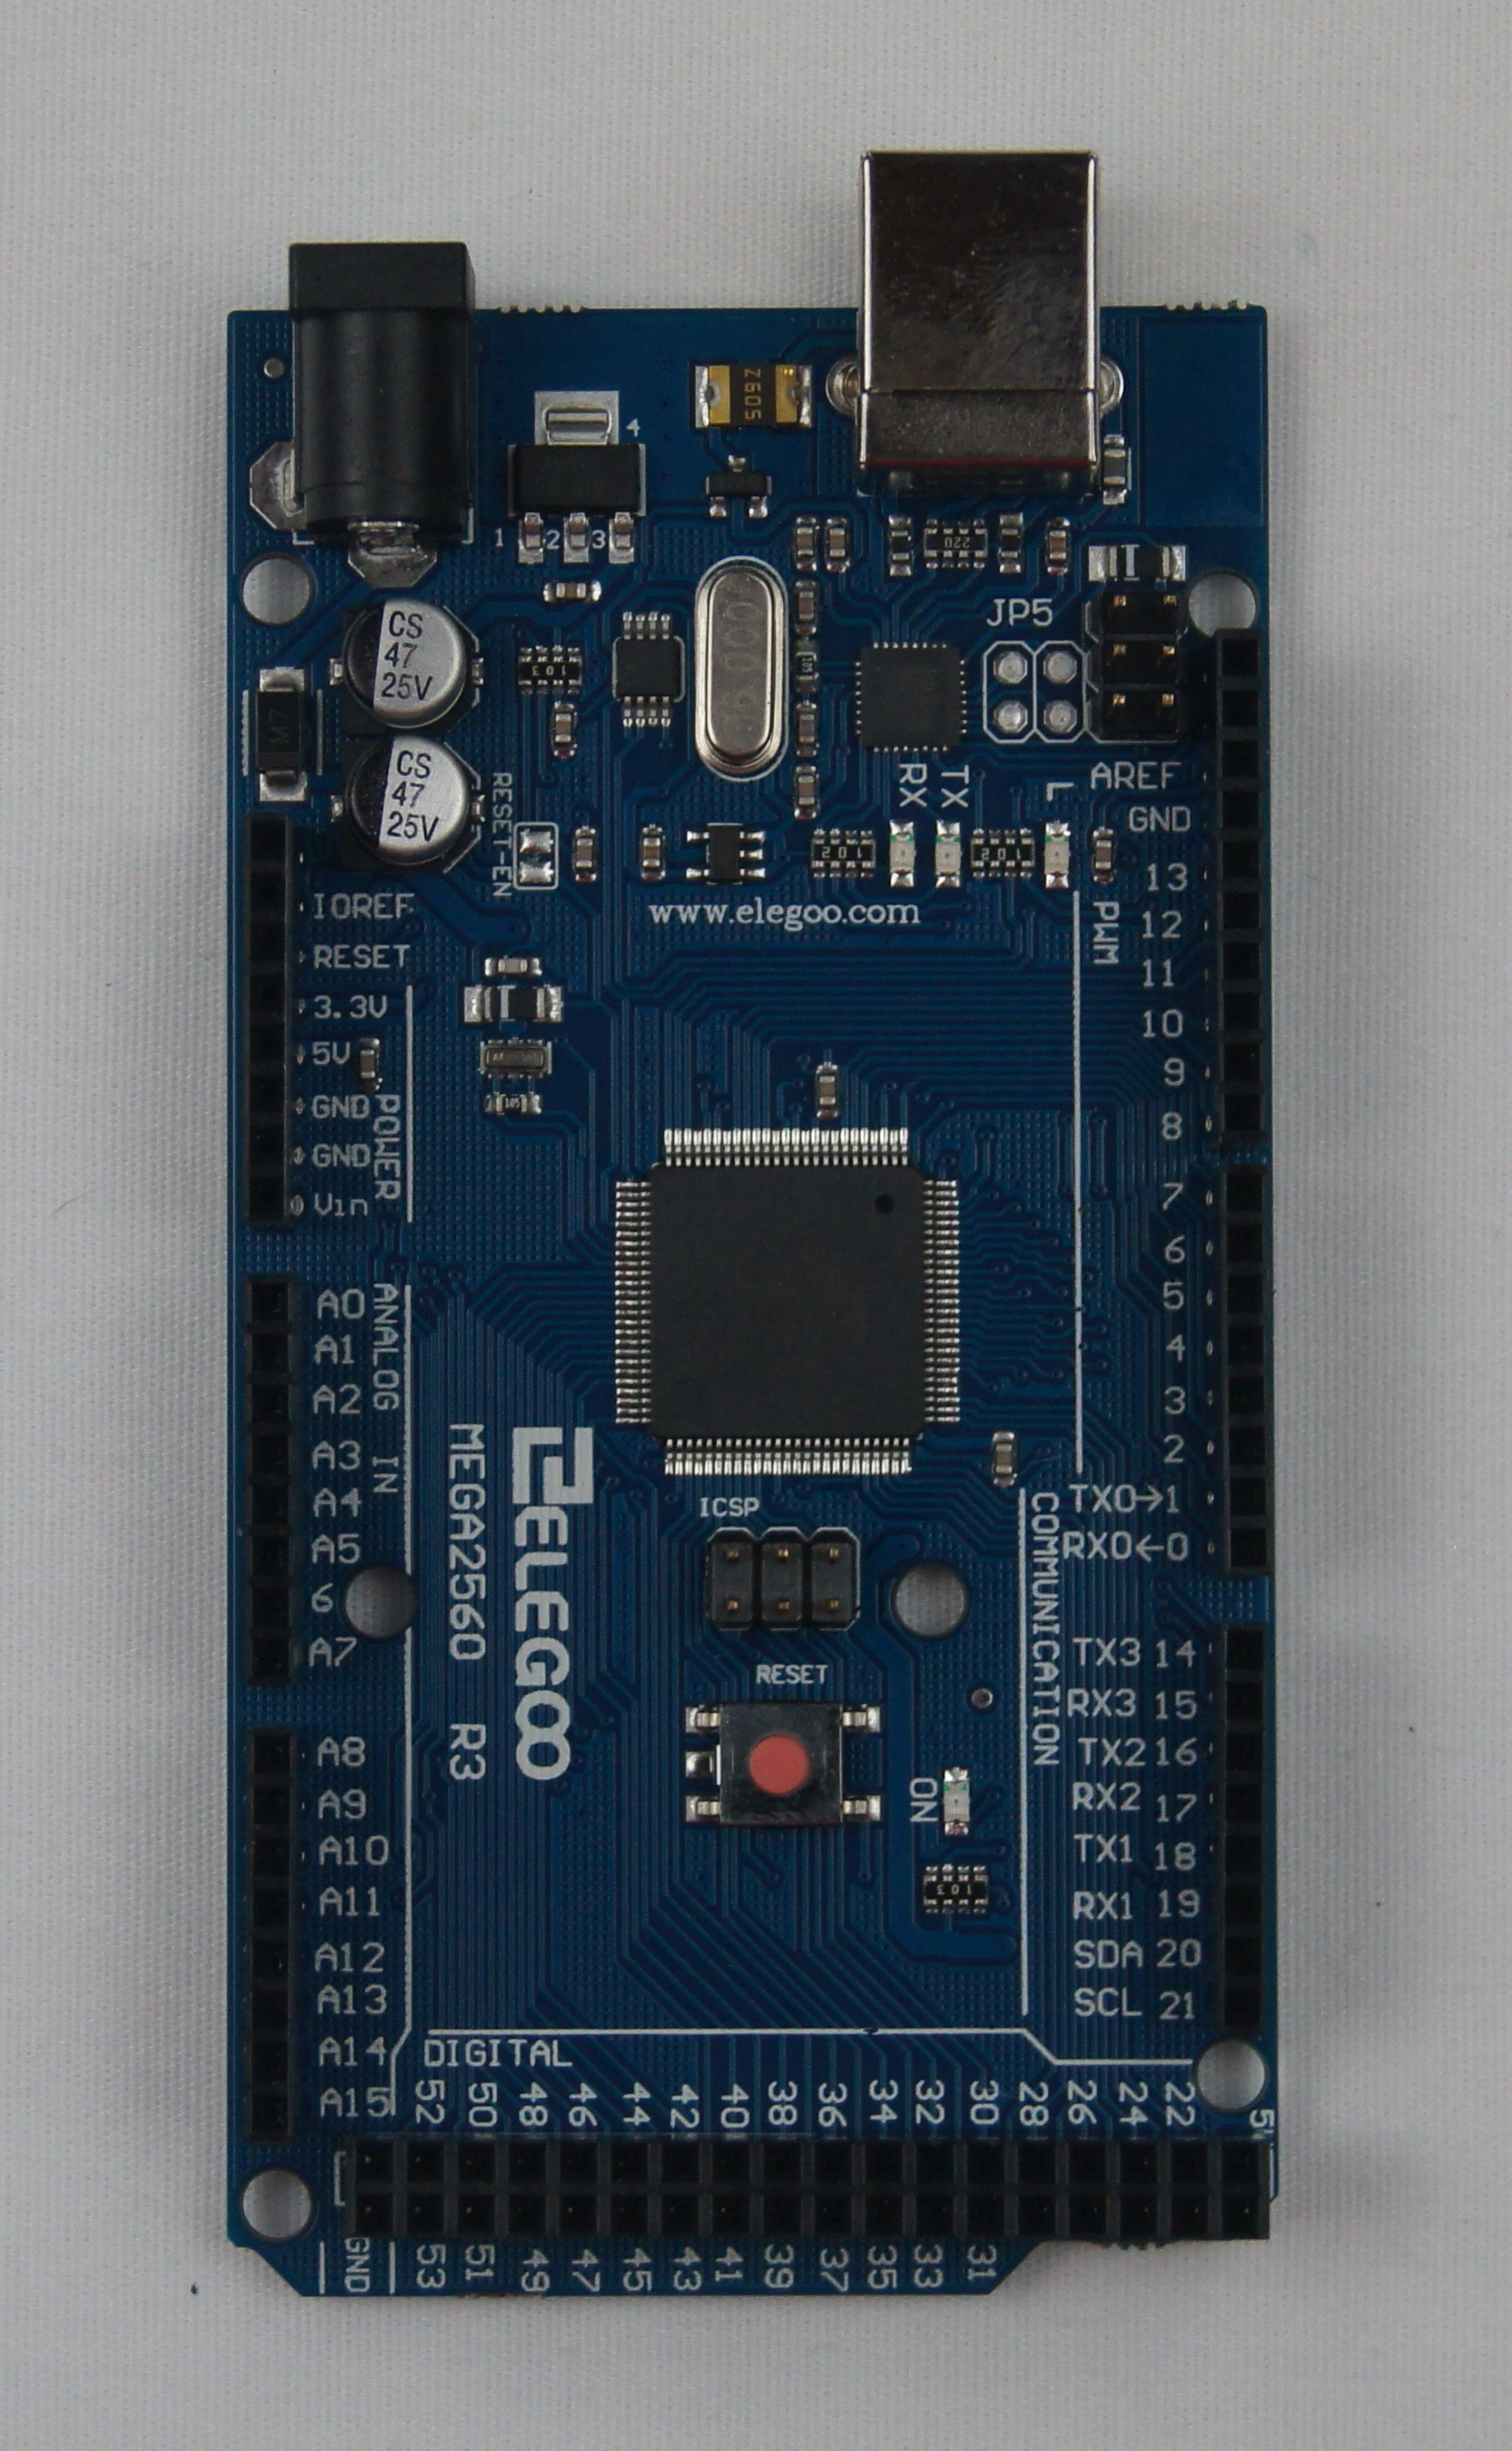connector: (350, 2136, 1270, 2246), (1209, 627, 1272, 1150), (1213, 1161, 1279, 1586), (1211, 1618, 1274, 2038), (240, 1271, 303, 1691), (243, 1724, 301, 2145), (238, 809, 290, 1234), (702, 1527, 859, 1633), (1094, 590, 1186, 744), (1036, 643, 1081, 744), (989, 644, 1034, 739)
